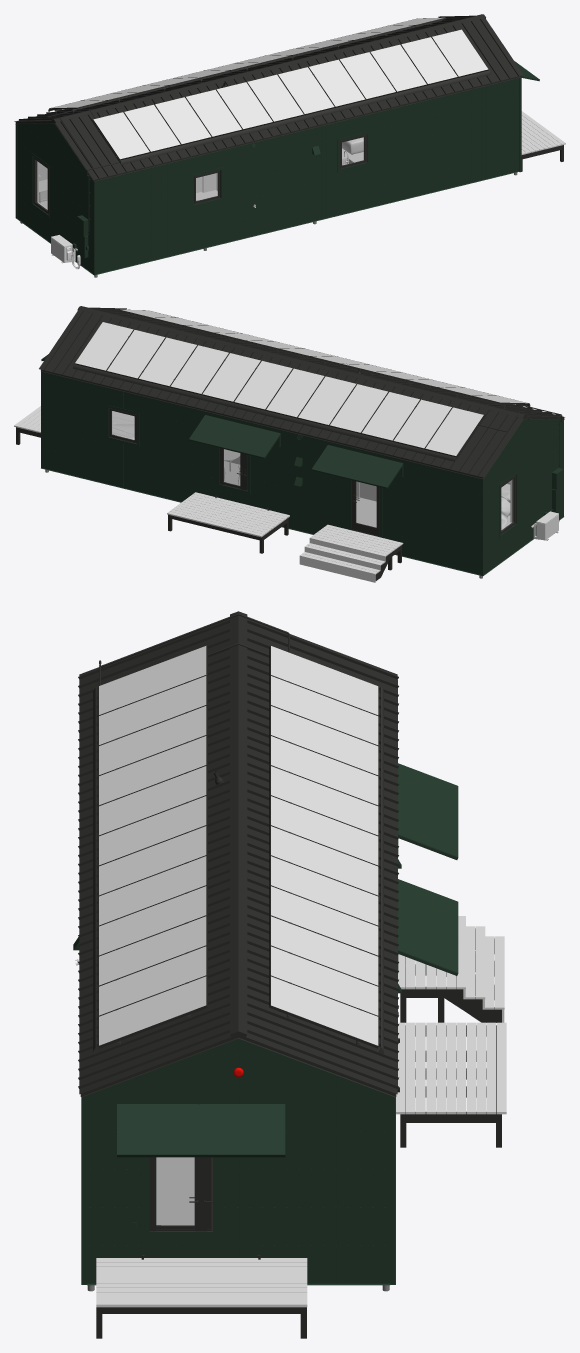
File: Samara_2Bedroom.glb
The picture shows the model from 3 angles, top to bottom: view 1: azimuth 30°, elevation 25°; view 2: azimuth 150°, elevation 25°; view 3: azimuth 270°, elevation 25°; orthographic projection. The views are drawn at different scales.
Parts seen in each view (by area): view 1: Wall_e_W_2B, SP_Right_2B, Wall_e_2B, Roof_2B, SP_Left_2B, Shield_Right_2B, Frame_Around_2B, Glass_2B, Frame_DW_2B, Deck_DDL_2B, Window_2B, Wall_i_2B (+2 smaller); view 2: Wall_e_FrontWindow_2B, SP_Left_2B, Roof_2B, Wall_e_2B, Wall_e_DDF_2B, Deck_2B, SP_Right_2B, Desk_DDF_2B, Awning_DoorEnt_Front_2B, Awning_DDF_2B, Shield_Left_2B, Frame_Around_2B (+16 smaller); view 3: Roof_2B, Wall_e_LeftWindow_W_2B, SP_Right_2B, SP_Left_2B, Wall_e_DDL_W_2B, Deck_DDL_2B, Desk_DDF_2B, Awning_DDL_2B, Wall_e_DDL_2B, Deck_2B, Awning_DoorEnt_Front_2B, Awning_DDF_2B (+13 smaller).
Boxes of the visible parts, x1,y1,x2,y2 form: Wall_e_W_2B: (17,78,518,273); SP_Right_2B: (92,29,488,160); Wall_e_2B: (17,78,518,273); Roof_2B: (14,14,523,181); SP_Left_2B: (50,17,446,109); Shield_Right_2B: (119,70,490,164); Frame_Around_2B: (15,77,521,274); Glass_2B: (35,137,363,210); Frame_DW_2B: (31,118,369,247); Deck_DDL_2B: (521,111,565,154); Window_2B: (33,134,366,214); Wall_i_2B: (37,137,363,209); Wall_e_FrontWindow_2B: (43,372,480,574); SP_Left_2B: (74,321,484,457); Roof_2B: (39,306,564,479); Wall_e_2B: (484,419,562,573); Wall_e_DDF_2B: (43,372,480,564); Deck_2B: (299,524,403,582); SP_Right_2B: (119,309,528,404); Desk_DDF_2B: (167,492,289,537); Awning_DoorEnt_Front_2B: (311,445,403,488); Awning_DDF_2B: (189,415,280,458); Shield_Left_2B: (73,364,456,461); Frame_Around_2B: (41,371,563,575); Roof_2B: (78,611,398,1097); Wall_e_LeftWindow_W_2B: (87,1039,390,1283); SP_Right_2B: (98,645,207,1048); SP_Left_2B: (269,645,378,1048); Wall_e_DDL_W_2B: (87,1041,390,1283); Deck_DDL_2B: (96,1258,307,1307); Desk_DDF_2B: (396,1022,506,1114); Awning_DDL_2B: (117,1104,285,1157); Wall_e_DDL_2B: (89,1039,386,1283); Deck_2B: (398,916,504,1022); Awning_DoorEnt_Front_2B: (398,763,458,859); Awning_DDF_2B: (398,879,458,975).
Size of the model in its own units: 16.34 by 4.29 by 6.26.
